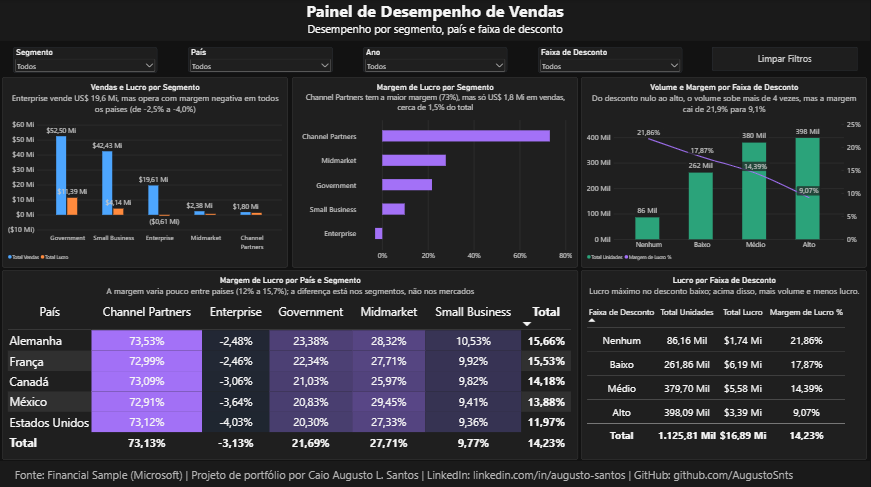

What the dashboard file says about the page in this screenshot:
{"tool":"powerbi","page":{"name":"Segmentos e Países","canvas":[2560,1440],"ordinal":2},"visuals":[{"type":"slicer","fields":{"Values":["Sheet1.Segment"]},"box":[40,140,424,76],"z":0},{"type":"slicer","fields":{"Values":["Sheet1.Country"]},"box":[554,140,426,74],"z":1000},{"type":"slicer","fields":{"Values":["Sheet1.Discount Band"]},"box":[1584,140,424,76],"z":2000},{"type":"slicer","fields":{"Values":["Calendario.Ano"]},"box":[1070,140,424,74],"z":3000},{"type":"actionButton","box":[2096,140,428,70],"z":4000},{"type":"textbox","box":[0,1356.7,2560,83.3],"z":5000},{"type":"textbox","box":[3.3,0,2556.7,123.3],"z":6000},{"type":"clusteredColumnChart","title":"Vendas e Lucro por Segmento","fields":{"Category":["Sheet1.Segmento"],"Y":["Sheet1.Total Vendas","Sheet1.Total Lucro"]},"box":[10,230,840,560],"z":7000},{"type":"clusteredBarChart","title":"Margem de Lucro por Segmento","fields":{"Category":["Sheet1.Segmento"],"Y":["Sheet1.Margem de Lucro %"]},"box":[860,230,840,560],"z":8000},{"type":"lineClusteredColumnComboChart","title":"Volume e Margem por Faixa de Desconto","fields":{"Category":["Sheet1.Faixa de Desconto"],"Y":["Sheet1.Total Unidades"],"Y2":["Sheet1.Margem de Lucro %"]},"box":[1710,230,840,560],"z":9000},{"type":"pivotTable","title":"Margem de Lucro por País e Segmento","fields":{"Columns":["Sheet1.Segment"],"Rows":["Sheet1.País"],"Values":["Sheet1.Margem de Lucro %"]},"box":[8.8,796.4,1692.7,558.4],"z":10000},{"type":"tableEx","title":"Lucro por Faixa de Desconto","fields":{"Values":["Sheet1.Faixa de Desconto","Sheet1.Total Unidades","Sheet1.Total Lucro","Sheet1.Margem de Lucro %"]},"box":[1710.4,796.4,840.5,558.4],"z":11000}]}

Visuals, with their boxes in screenshot pixels (x1, y1, x2, y2), scaled from the page's 2560x1440 canvas onto the 871x487 screenshot:
slicer - Sheet1.Segment: {"x1": 14, "y1": 47, "x2": 158, "y2": 73}
slicer - Sheet1.Country: {"x1": 188, "y1": 47, "x2": 333, "y2": 72}
slicer - Sheet1.Discount Band: {"x1": 539, "y1": 47, "x2": 683, "y2": 73}
slicer - Calendario.Ano: {"x1": 364, "y1": 47, "x2": 508, "y2": 72}
actionButton: {"x1": 713, "y1": 47, "x2": 859, "y2": 71}
textbox: {"x1": 0, "y1": 459, "x2": 870, "y2": 486}
textbox: {"x1": 1, "y1": 0, "x2": 870, "y2": 42}
"Vendas e Lucro por Segmento" clusteredColumnChart: {"x1": 3, "y1": 78, "x2": 289, "y2": 267}
"Margem de Lucro por Segmento" clusteredBarChart: {"x1": 293, "y1": 78, "x2": 578, "y2": 267}
"Volume e Margem por Faixa de Desconto" lineClusteredColumnComboChart: {"x1": 582, "y1": 78, "x2": 868, "y2": 267}
"Margem de Lucro por País e Segmento" pivotTable: {"x1": 3, "y1": 269, "x2": 579, "y2": 458}
"Lucro por Faixa de Desconto" tableEx: {"x1": 582, "y1": 269, "x2": 868, "y2": 458}
